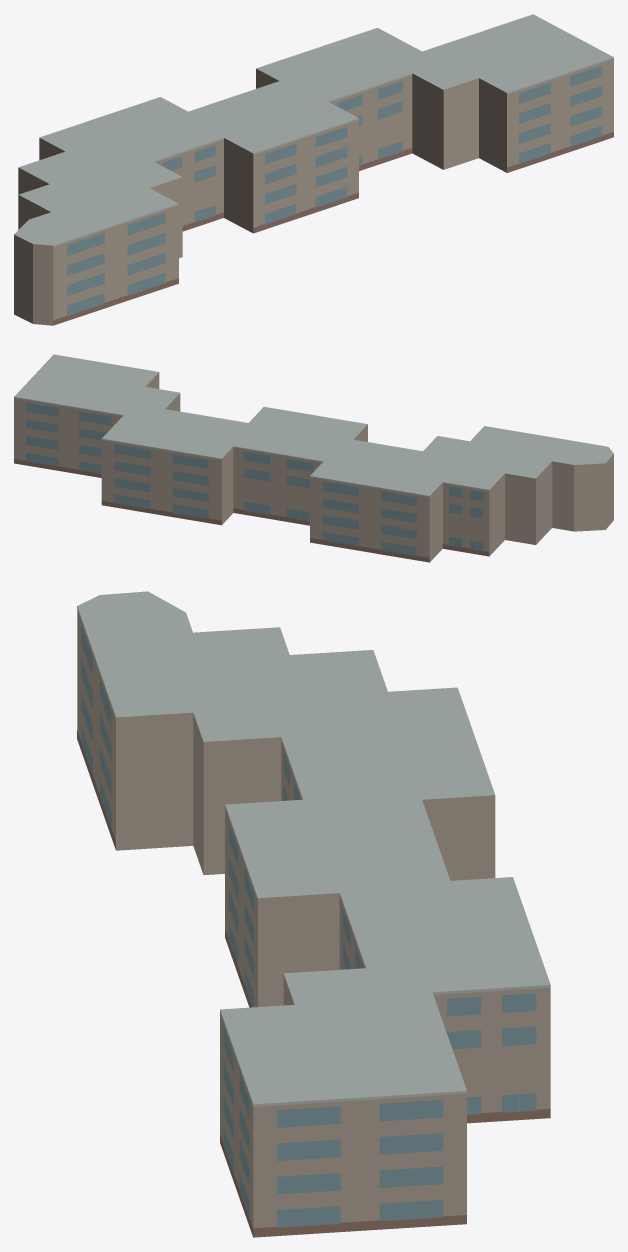
Rendered from residential-52da3192-03f2-4e45-b7aa-40456e4e064a.glb.
3 renders of one model, top to bottom at view 1: azimuth 30°, elevation 25°; view 2: azimuth 150°, elevation 25°; view 3: azimuth 270°, elevation 25°, orthographic. The views are drawn at different scales.
Visible parts, largest first — view 1: residential-52da3192-03f2-4e45-b7aa-40456e4e064a.tmp; view 2: residential-52da3192-03f2-4e45-b7aa-40456e4e064a.tmp; view 3: residential-52da3192-03f2-4e45-b7aa-40456e4e064a.tmp.
Boxes of the visible parts, x1,y1,x2,y2 form: residential-52da3192-03f2-4e45-b7aa-40456e4e064a.tmp: [14, 14, 613, 325]; residential-52da3192-03f2-4e45-b7aa-40456e4e064a.tmp: [14, 354, 613, 562]; residential-52da3192-03f2-4e45-b7aa-40456e4e064a.tmp: [77, 591, 550, 1237].
Bounding box in the file's own units: 101 × 12.2 × 39.32.
